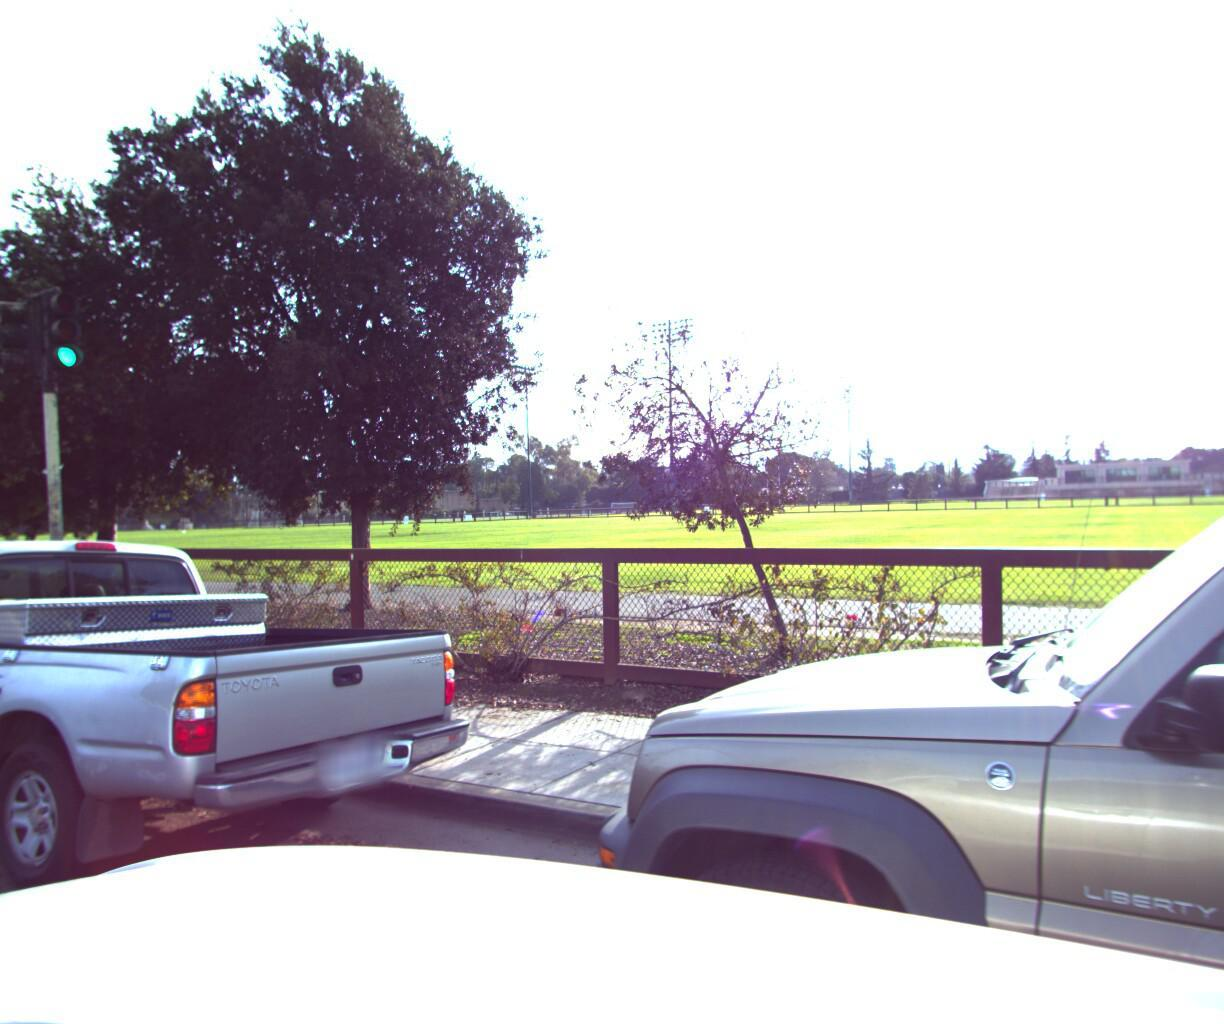car: (483, 0, 1224, 1024), (0, 525, 504, 989)
